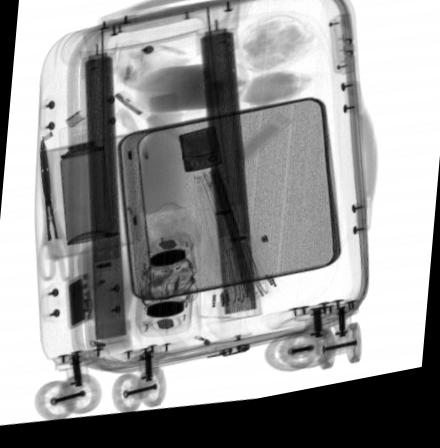Lighter: (177, 133, 221, 178)
Powerbank: (65, 273, 102, 332)
Scissors: (34, 135, 75, 284)
Sprayer: (57, 124, 118, 249)
